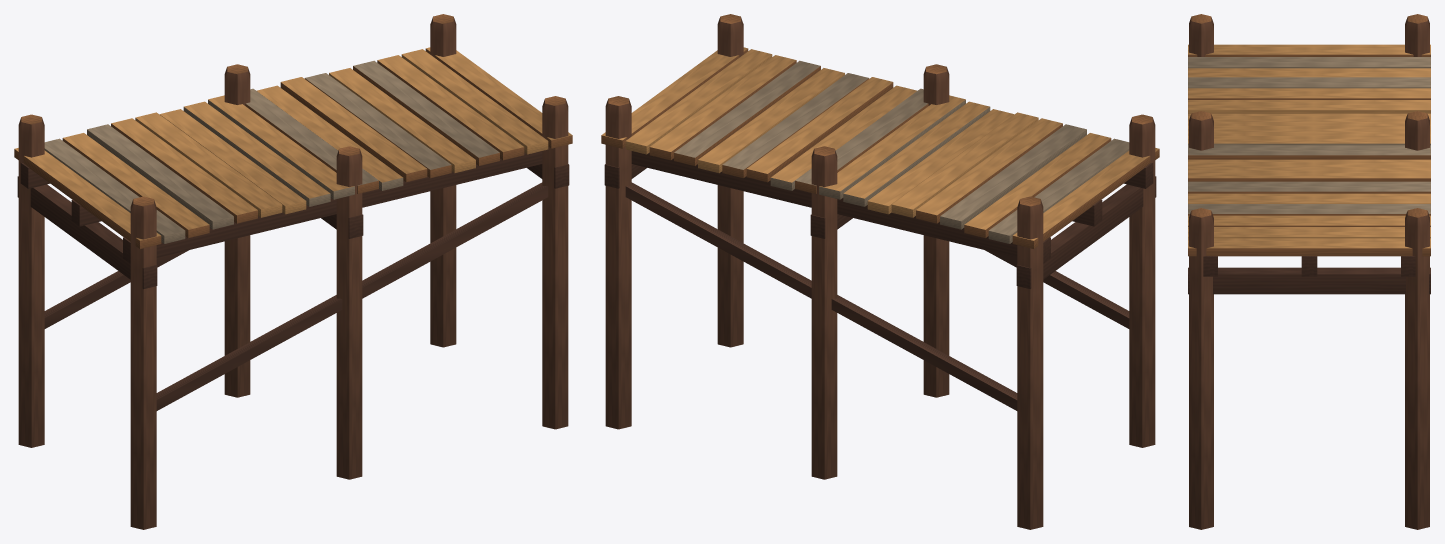
Rendered from dock_straight_long_01.glb.
3 renders of one model, left to right at view 1: azimuth 30°, elevation 25°; view 2: azimuth 150°, elevation 25°; view 3: azimuth 270°, elevation 25°, orthographic. The views are drawn at different scales.
Parts seen in each view (by area): view 1: dock_straight_long_01; view 2: dock_straight_long_01; view 3: dock_straight_long_01.
Part boxes in pixels (x1,y1,x2,y2): dock_straight_long_01: (14,14,572,529); dock_straight_long_01: (601,14,1159,529); dock_straight_long_01: (1188,14,1430,529).
Bounding box in the file's own units: 4.41 × 3.1 × 2.19.
1 material, 1 textured.
